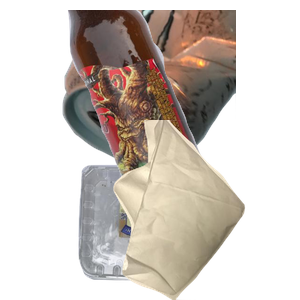glass: (65, 10, 300, 190)
metal: (60, 10, 300, 175)
plastic: (76, 162, 264, 300)
trash: (111, 120, 300, 300)
